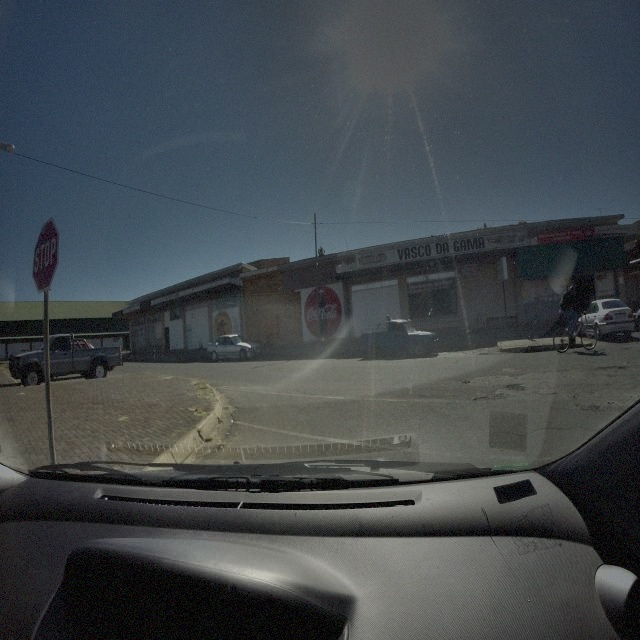pothole: (505, 384, 526, 393)
